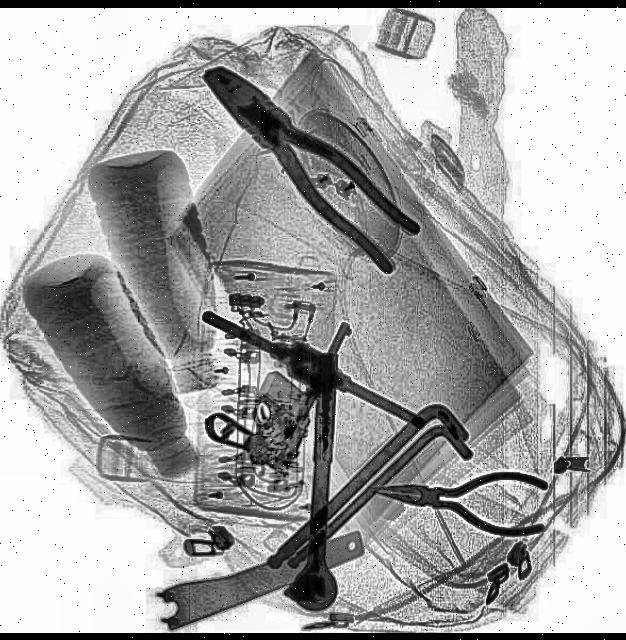Gun: (198, 278, 360, 482)
Pliers: (186, 42, 424, 274), (372, 460, 548, 538)
